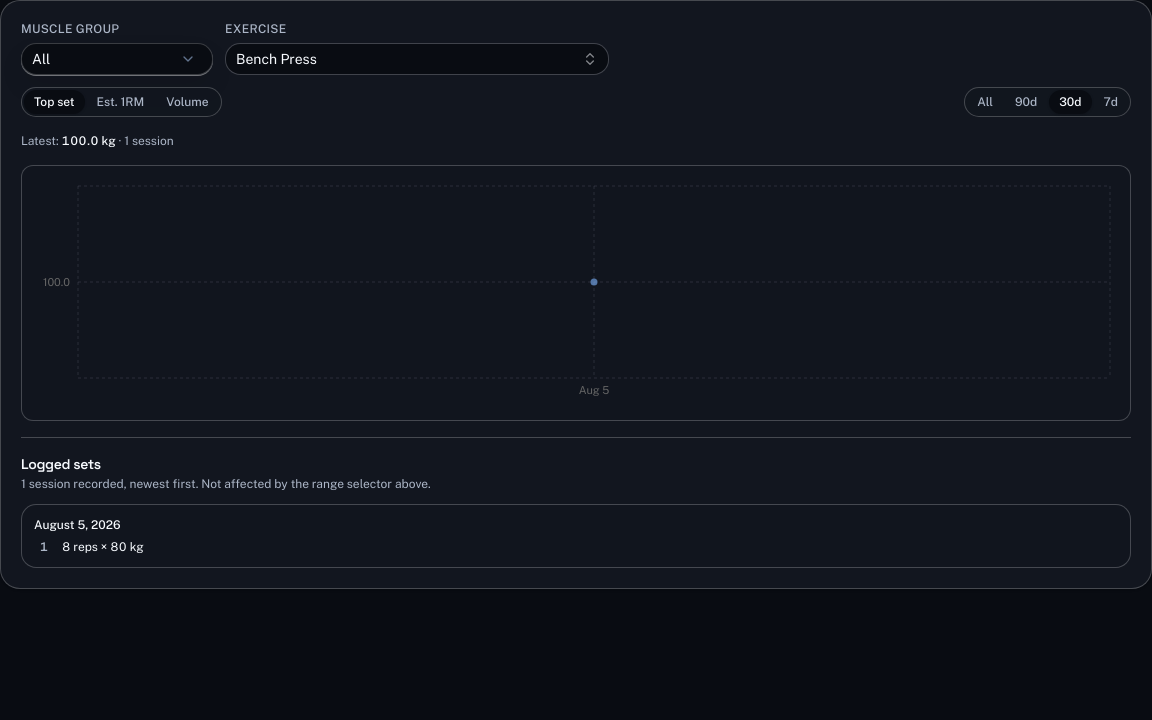
Test case: ExerciseProgressClient — the exercise selection › re-selects a valid exercise when the muscle filter excludes the current one
The width and height of the screenshot is (1152, 720).
Click the dropdown named "Muscle group" at (117, 59), box x1=21 y1=43 x2=213 y2=75
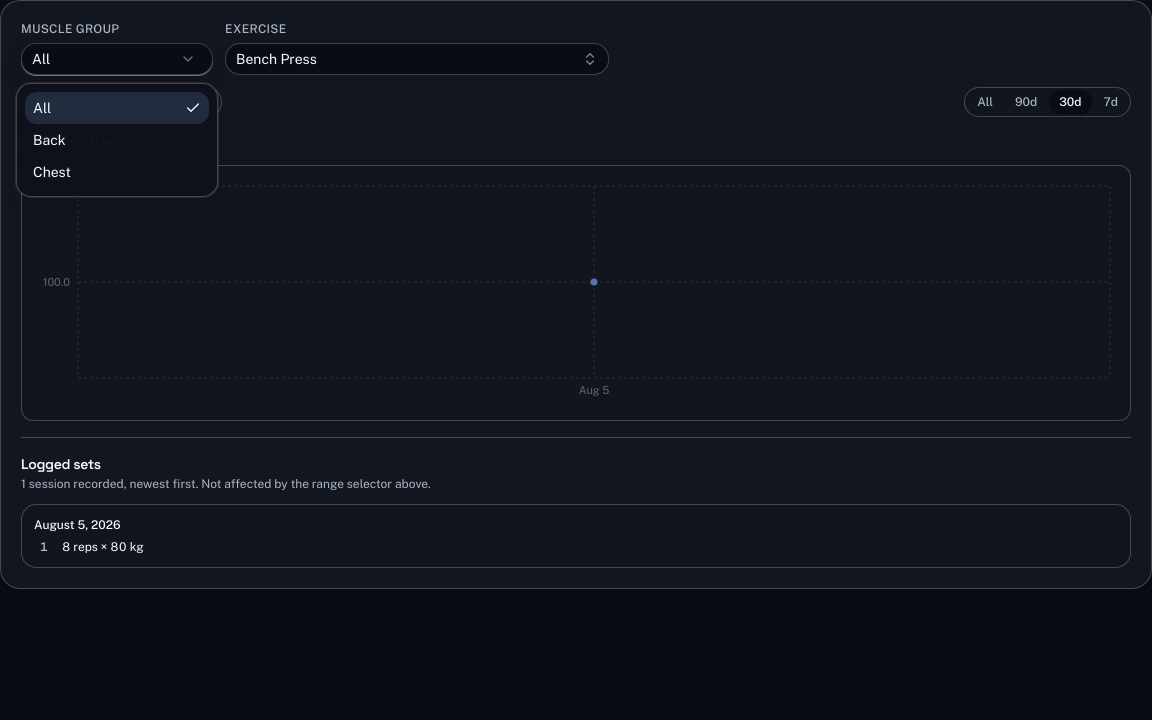
Click the option "Back" at (49, 140), box x1=33 y1=132 x2=66 y2=148
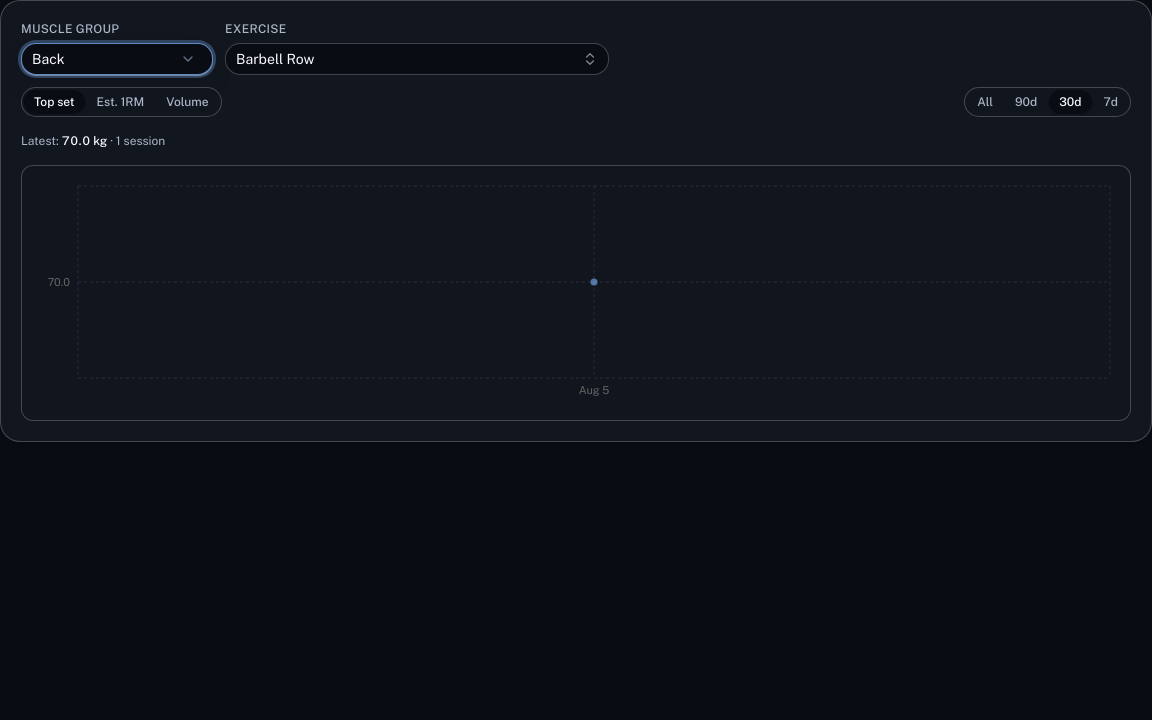
Expected: the text "70.0 kg" is shown, x1=62 y1=134 x2=107 y2=148
Expected: the dropdown named "Exercise" reads "Barbell Row", x1=225 y1=43 x2=609 y2=75
